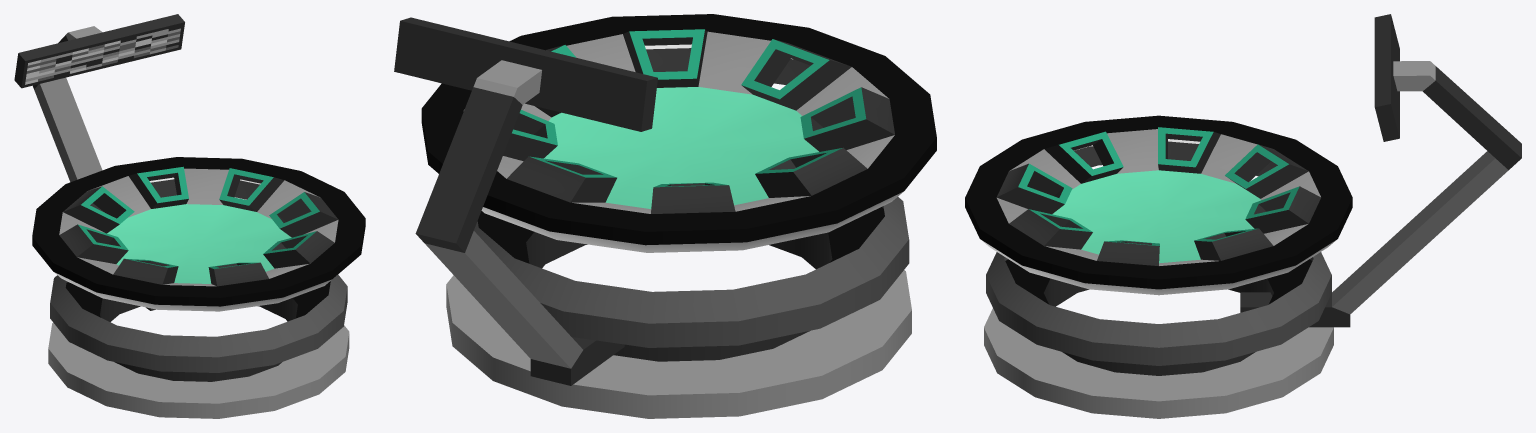
The model's file is Holograma_Base.gltf.
3 views of the same model, side by side, from view 1: azimuth 30°, elevation 25°; view 2: azimuth 150°, elevation 25°; view 3: azimuth 270°, elevation 25° (orthographic). The views are drawn at different scales.
Visible parts, largest first — view 1: Base; view 2: Base; view 3: Base.
Part boxes in pixels (x1,y1,x2,y2): Base: (14, 14, 365, 418); Base: (394, 14, 936, 418); Base: (965, 14, 1521, 418).
Size of the model in its own units: 3.37 by 2.74 by 4.83.
Materials: 1 (1 with a texture image).
